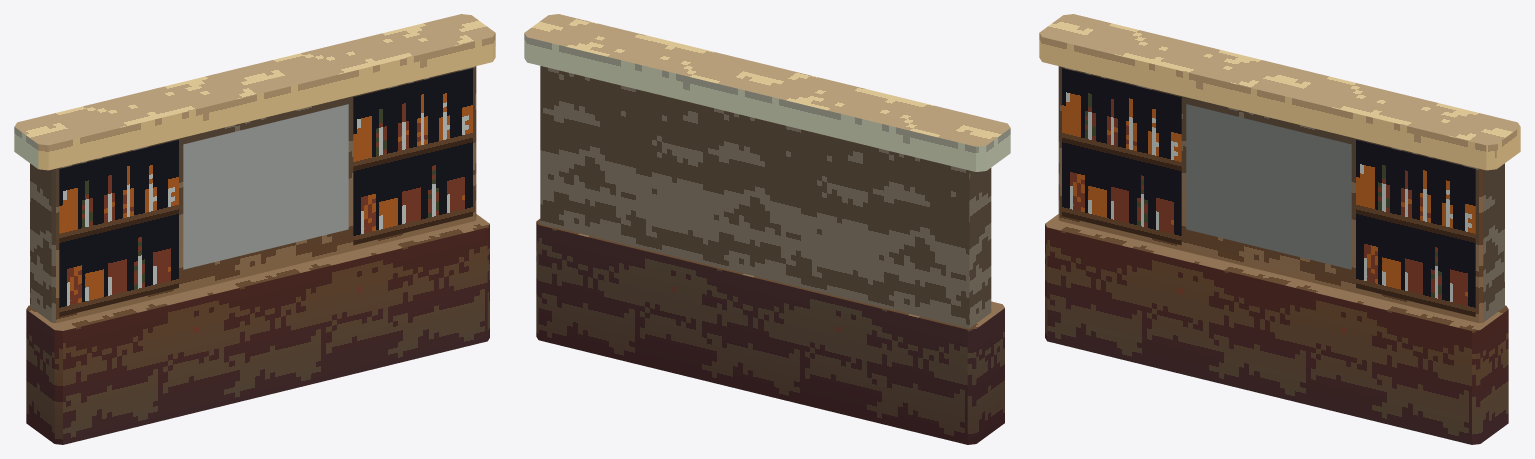
The model's file is wprop.bar__back_bar.glb.
3 renders of one model, left to right at view 1: azimuth 30°, elevation 25°; view 2: azimuth 150°, elevation 25°; view 3: azimuth 330°, elevation 25°, orthographic.
Parts seen in each view (by area): view 1: kit_cabinet, kit_card_bottles, kit_cornice, kit_card_mirror, kit_shelves; view 2: kit_shelves, kit_cabinet, kit_cornice; view 3: kit_cabinet, kit_card_bottles, kit_cornice, kit_card_mirror, kit_shelves.
Boxes of the visible parts, bbox=[...] form: kit_cabinet: bbox=[26, 214, 489, 444]; kit_card_bottles: bbox=[59, 68, 472, 316]; kit_cornice: bbox=[14, 14, 495, 170]; kit_card_mirror: bbox=[183, 104, 348, 269]; kit_shelves: bbox=[30, 66, 476, 323]; kit_shelves: bbox=[540, 66, 991, 328]; kit_cabinet: bbox=[536, 219, 1004, 444]; kit_cornice: bbox=[524, 14, 1010, 171]; kit_cabinet: bbox=[1045, 214, 1508, 444]; kit_card_bottles: bbox=[1062, 68, 1475, 316]; kit_cornice: bbox=[1039, 14, 1520, 170]; kit_card_mirror: bbox=[1186, 104, 1351, 269]; kit_shelves: bbox=[1058, 66, 1504, 323].
Size of the model in its own units: 4.2 by 2.62 by 0.575.
5 materials, 4 textured.
